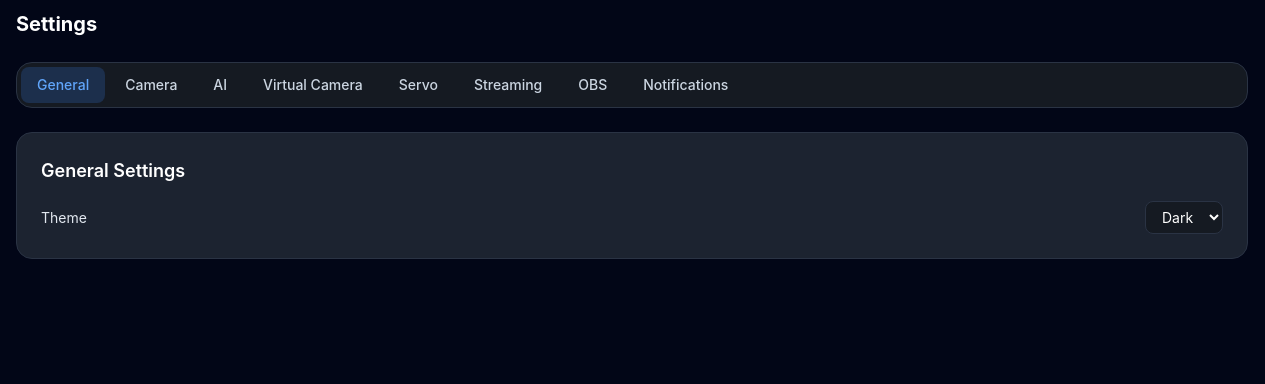
Settings › switches tabs on click
The width and height of the screenshot is (1265, 384).
Click the tab "AI".
click(220, 85)  # box [197, 67, 243, 103]
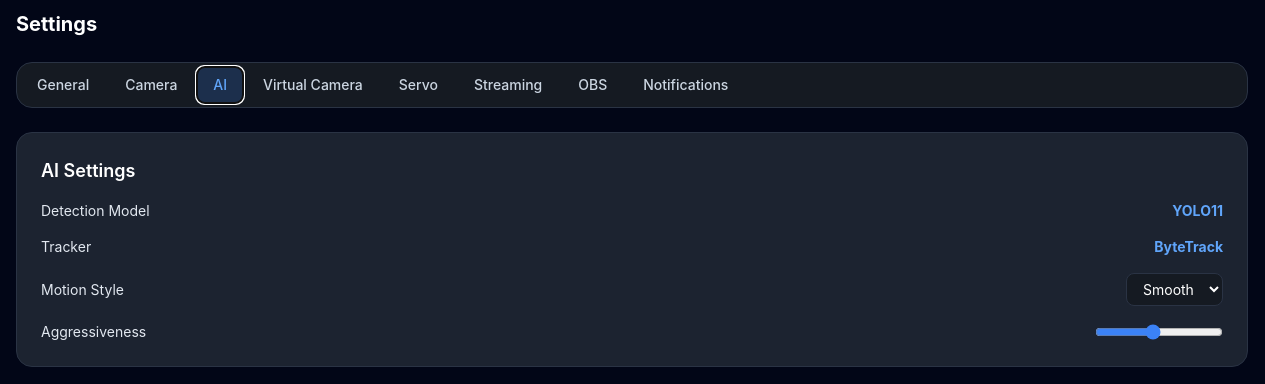
Expected: the text "Detection Model" is shown, [41, 201, 150, 221]
Expected: the text "YOLO11" is shown, [1172, 201, 1223, 221]
